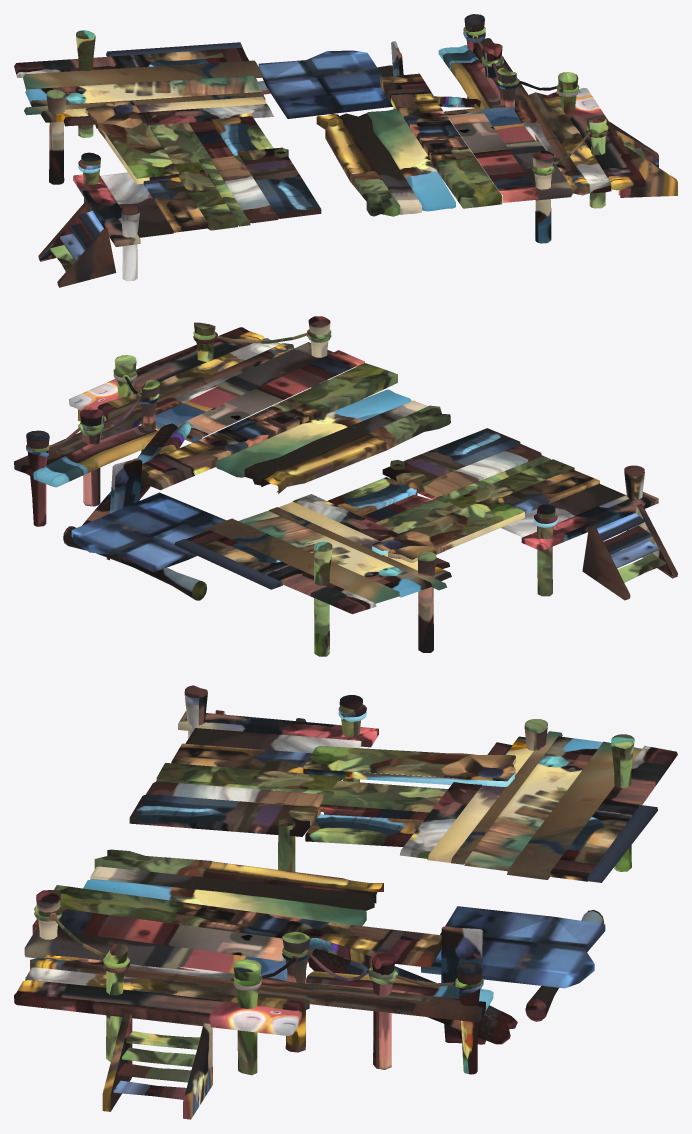
The model's file is Beach_Tavern_Decking.glb.
3 views of the same model, one above another, from view 1: azimuth 30°, elevation 25°; view 2: azimuth 150°, elevation 25°; view 3: azimuth 270°, elevation 25° (orthographic). The views are drawn at different scales.
Visible parts, largest first — view 1: Object_2.004; view 2: Object_2.004; view 3: Object_2.004.
Part boxes in pixels (<box>): Object_2.004: <box>14,14,677,287</box>; Object_2.004: <box>14,316,677,656</box>; Object_2.004: <box>14,685,677,1119</box>.
Bounding box in the file's own units: 104 × 20.5 × 81.75.
1 material, 1 textured.
